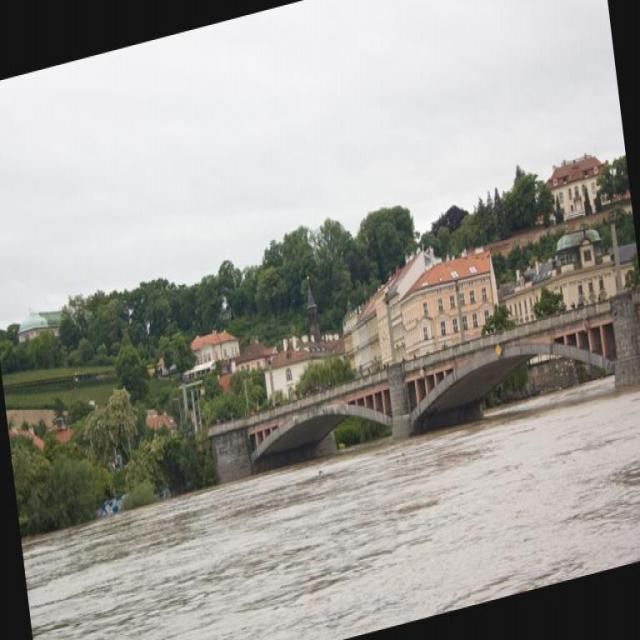flood: (19, 355, 640, 639)
